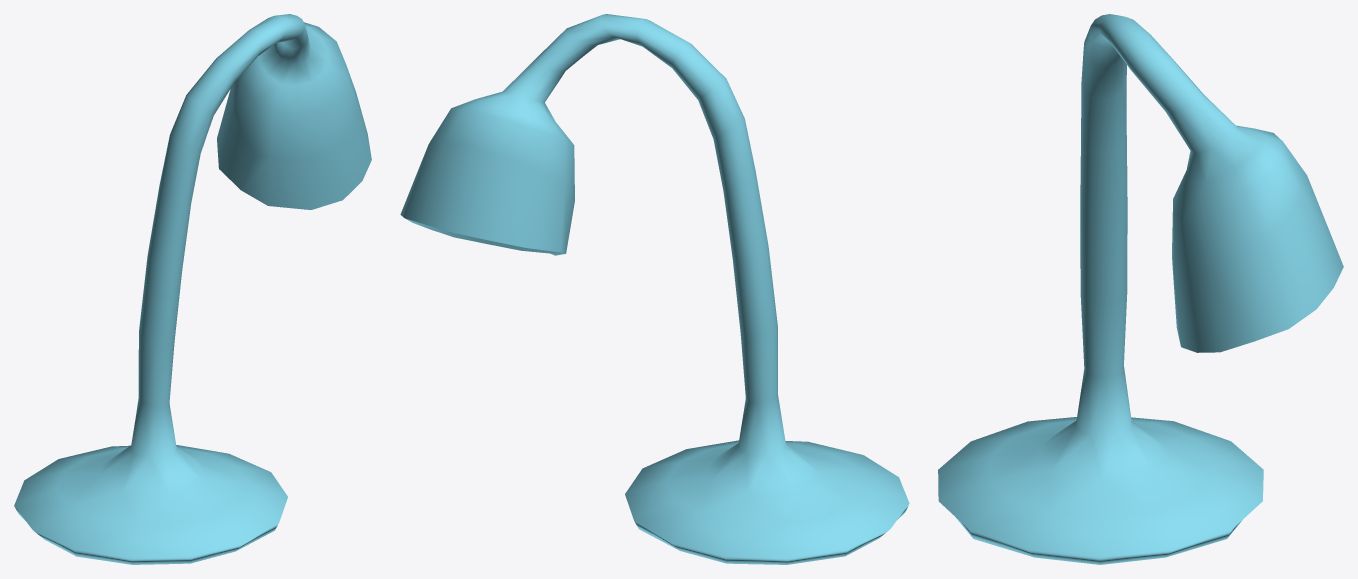
The model's file is lampara.fbx.
3 renders of one model, left to right at view 1: azimuth 30°, elevation 25°; view 2: azimuth 150°, elevation 25°; view 3: azimuth 270°, elevation 25°, orthographic. The views are drawn at different scales.
Parts seen in each view (by area): view 1: pCone1; view 2: pCone1; view 3: pCone1.
Part boxes in pixels (x1=…): pCone1: x1=14, y1=14, x2=371, y2=564; pCone1: x1=400, y1=14, x2=909, y2=564; pCone1: x1=938, y1=14, x2=1343, y2=564.
Size of the model in its own units: 8.19 by 8.94 by 5.91.
